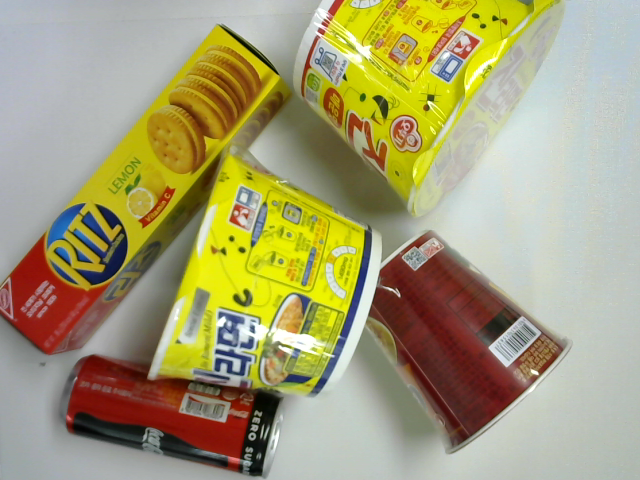Coca_Cola_Zero_Can_250ml: (59, 355, 282, 480)
Jinlamyeon_Hot_Taste_Large_Cup: (291, 1, 567, 222)
Jinlamyeon_Mild_Taste_Large_Cup: (147, 147, 384, 401)
Raccoon: (367, 226, 574, 456)
Ritz_Remon_96g: (1, 22, 294, 353)
